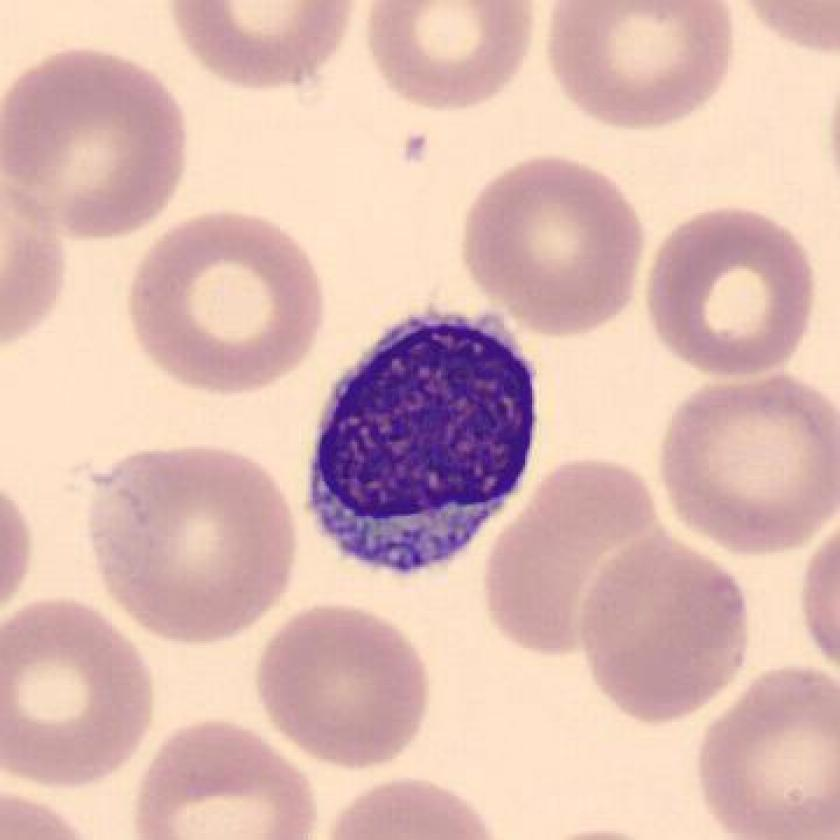lymphocyte: (288, 290, 552, 591)
